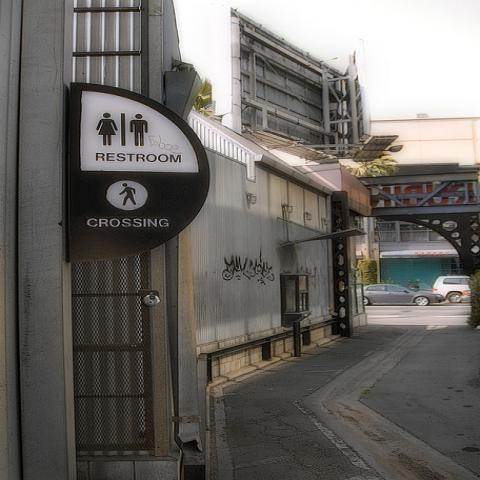car: (363, 283, 444, 306), (432, 276, 471, 304)
